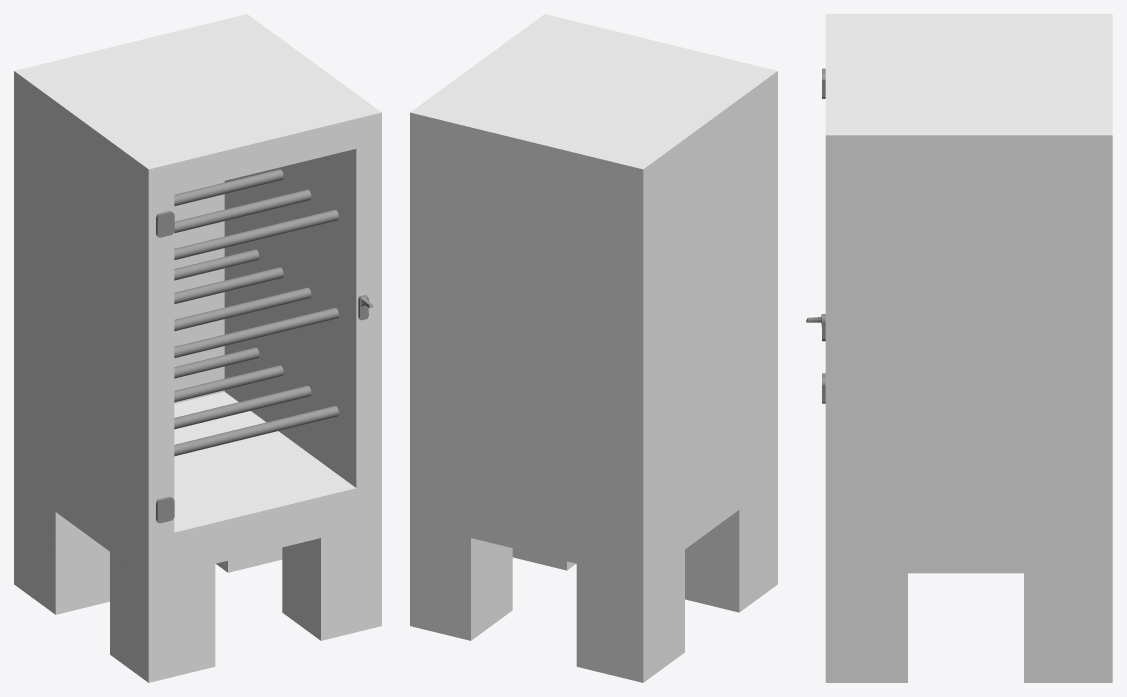
File: refrigerator.fbx
3 renders of one model, left to right at view 1: azimuth 30°, elevation 25°; view 2: azimuth 150°, elevation 25°; view 3: azimuth 270°, elevation 25°, orthographic. The views are drawn at different scales.
Parts seen in each view (by area): view 1: polySurface2; view 2: polySurface2; view 3: polySurface2.
Part boxes in pixels (x1,y1,x2,y2): polySurface2: (14, 14, 381, 682); polySurface2: (410, 14, 777, 682); polySurface2: (806, 14, 1112, 682).
Bounding box in the file's own units: 5.13 × 10.79 × 5.48.
